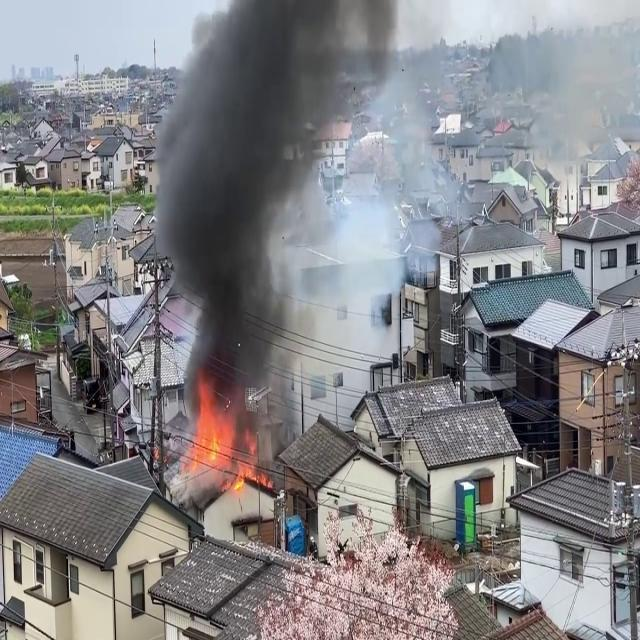Fire: (178, 392, 266, 488)
Smoke: (147, 0, 356, 444)
